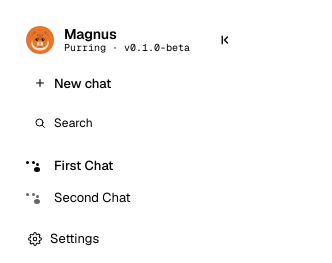
Test: Sidebar › shows context menu on right-click
The width and height of the screenshot is (332, 263).
Right-click the text "First Chat" at [84, 166], box 54,157 -> 113,174
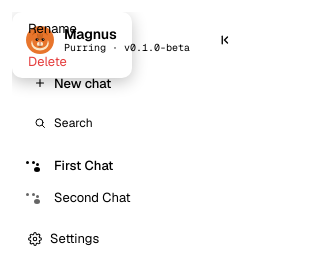
Now the button "Rename" is shown, box 12,12 -> 132,45
Now the button "Delete" is shown, box 12,45 -> 132,78
